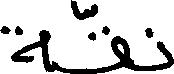X: (0, 21, 46, 73), (112, 31, 128, 73), (158, 36, 173, 73)
